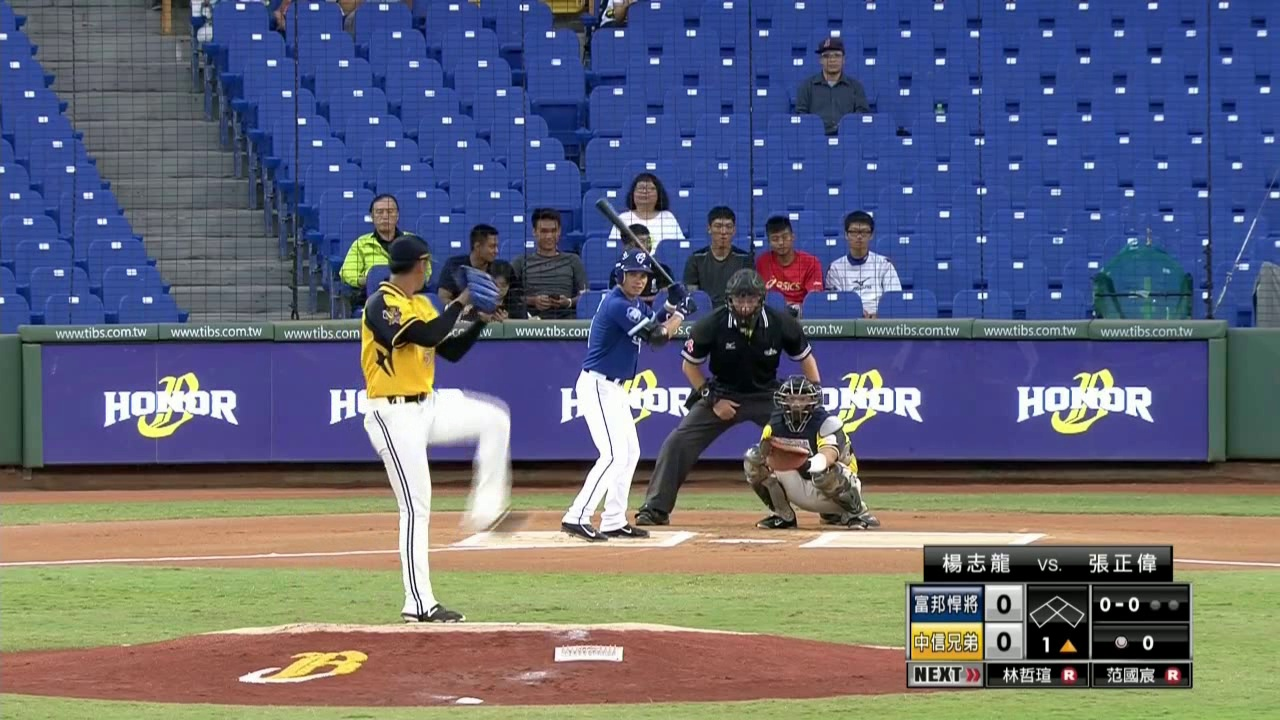base: (1028, 590, 1088, 628)
bat: (592, 194, 681, 294)
out: (1149, 595, 1183, 612)
score1: (985, 584, 1025, 620)
score2: (985, 623, 1023, 657)
session: (1034, 634, 1081, 653)
strikeball: (1097, 590, 1144, 612)
total: (1108, 629, 1159, 652)
